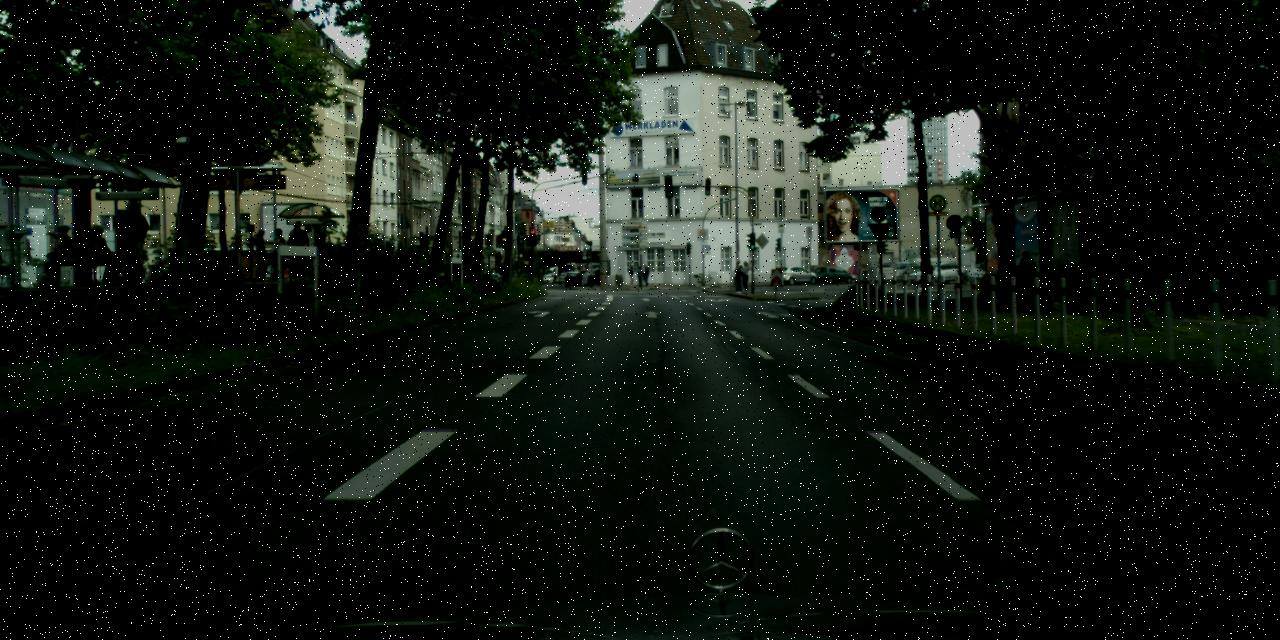ped: (116, 200, 151, 286), (287, 219, 311, 279), (266, 228, 288, 280), (1016, 250, 1036, 302), (252, 228, 270, 276), (734, 260, 749, 295), (637, 264, 651, 290), (626, 263, 636, 285)
